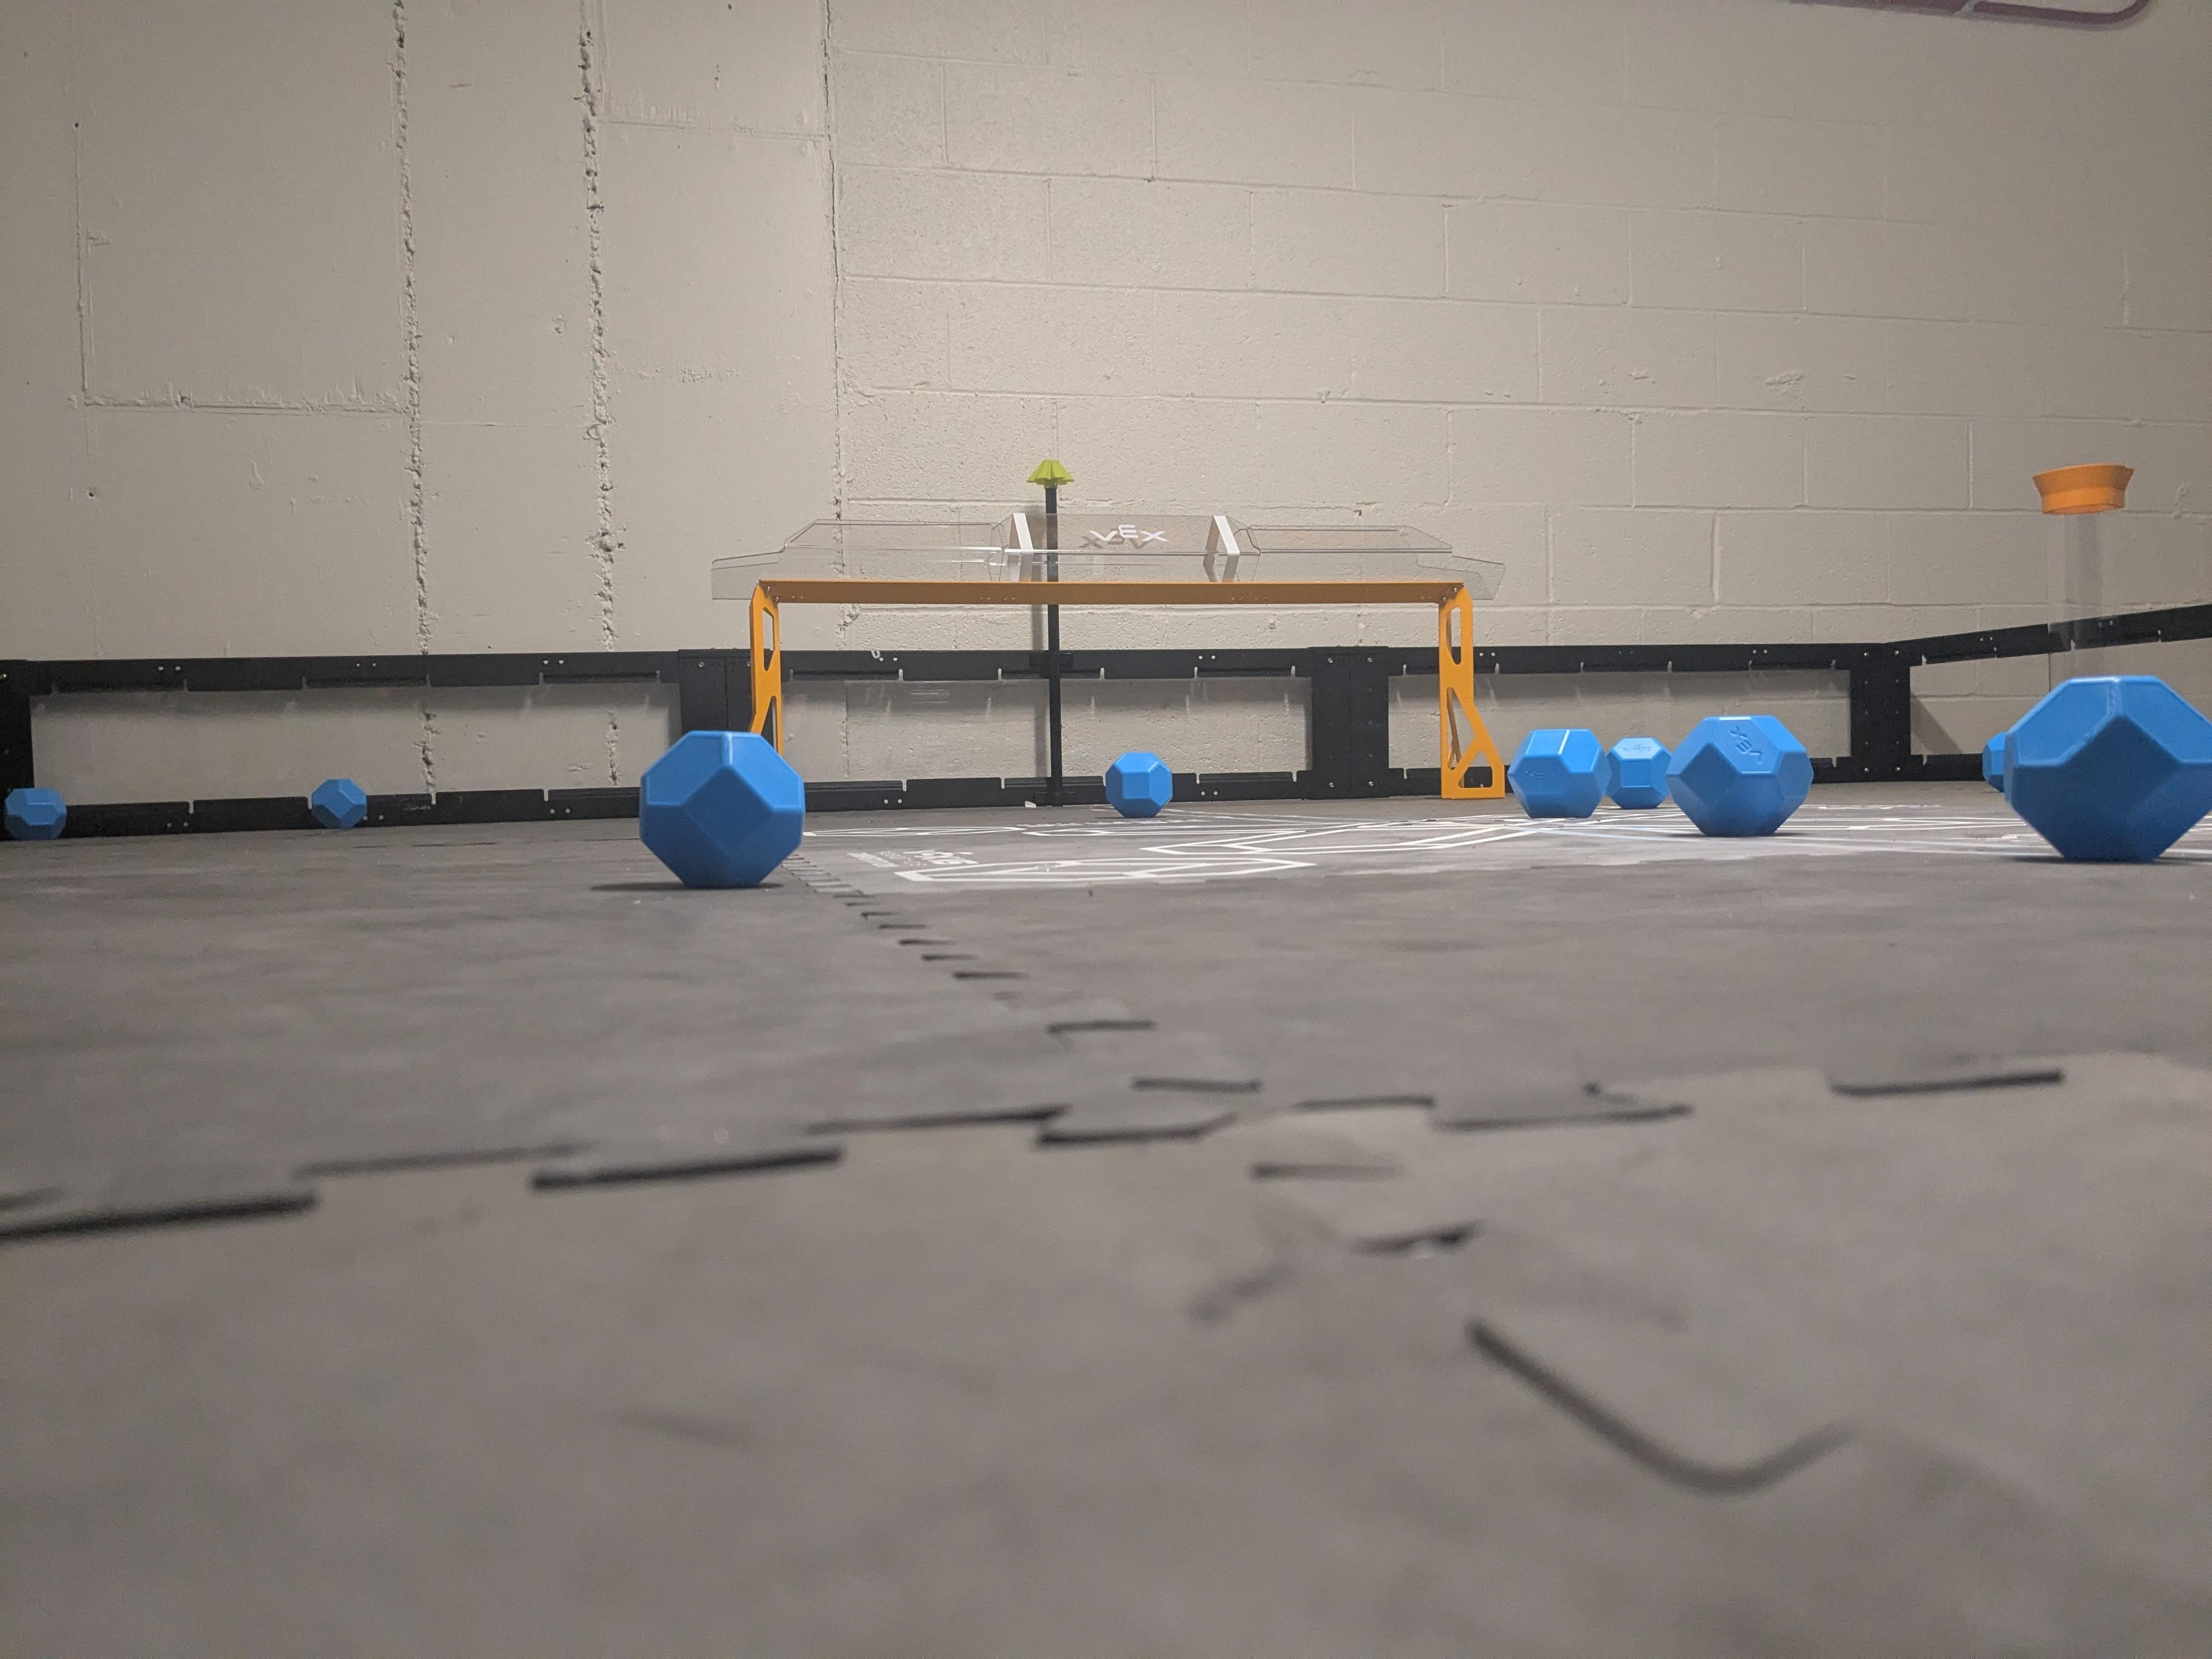Vex-Pieces-BLUE: (1984, 676, 2207, 854), (639, 735, 805, 889), (1658, 716, 1810, 835), (1507, 728, 1604, 817), (1606, 737, 1670, 809), (1106, 751, 1170, 819), (5, 788, 66, 840), (308, 777, 368, 828)
